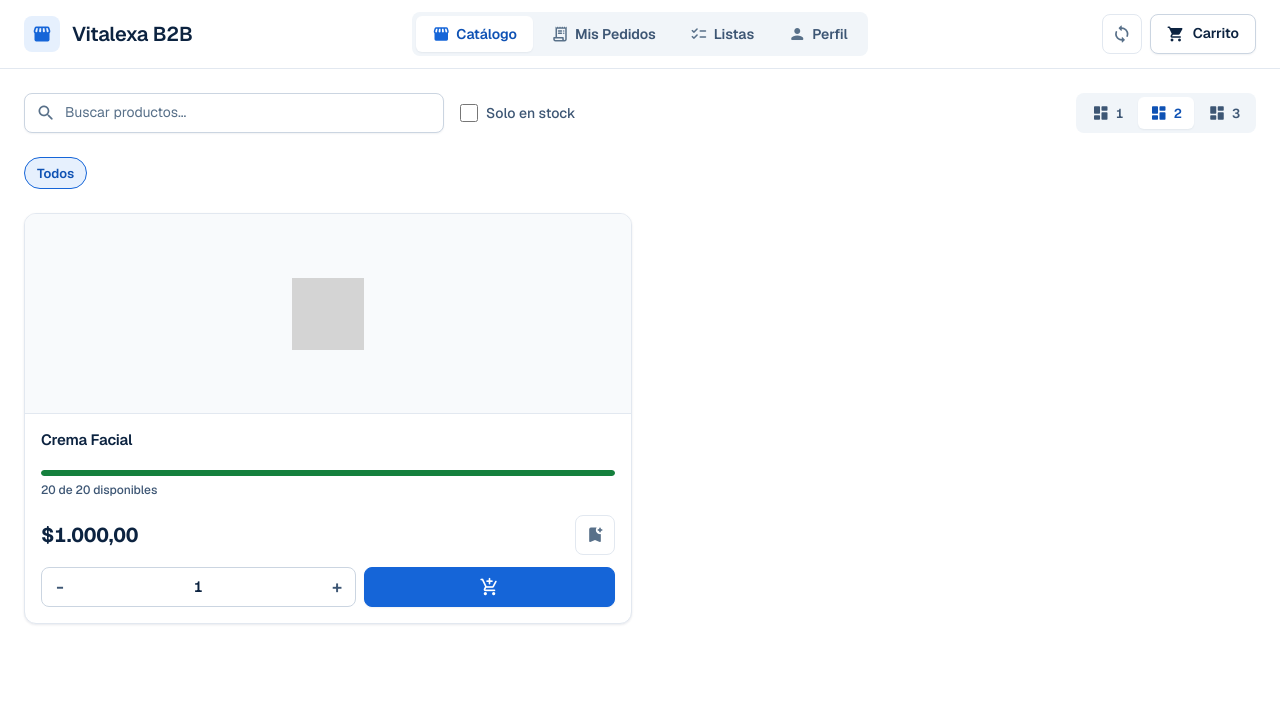
Test: catálogo: "Actualizar" no cambia la grilla por esqueletos y la cantidad elegida se conserva
Expected: the heading "Crema Facial" is shown, [41,430,132,450]
Step 1. Click the button named "Aumentar cantidad" → (337, 587), box [319,568,355,606]
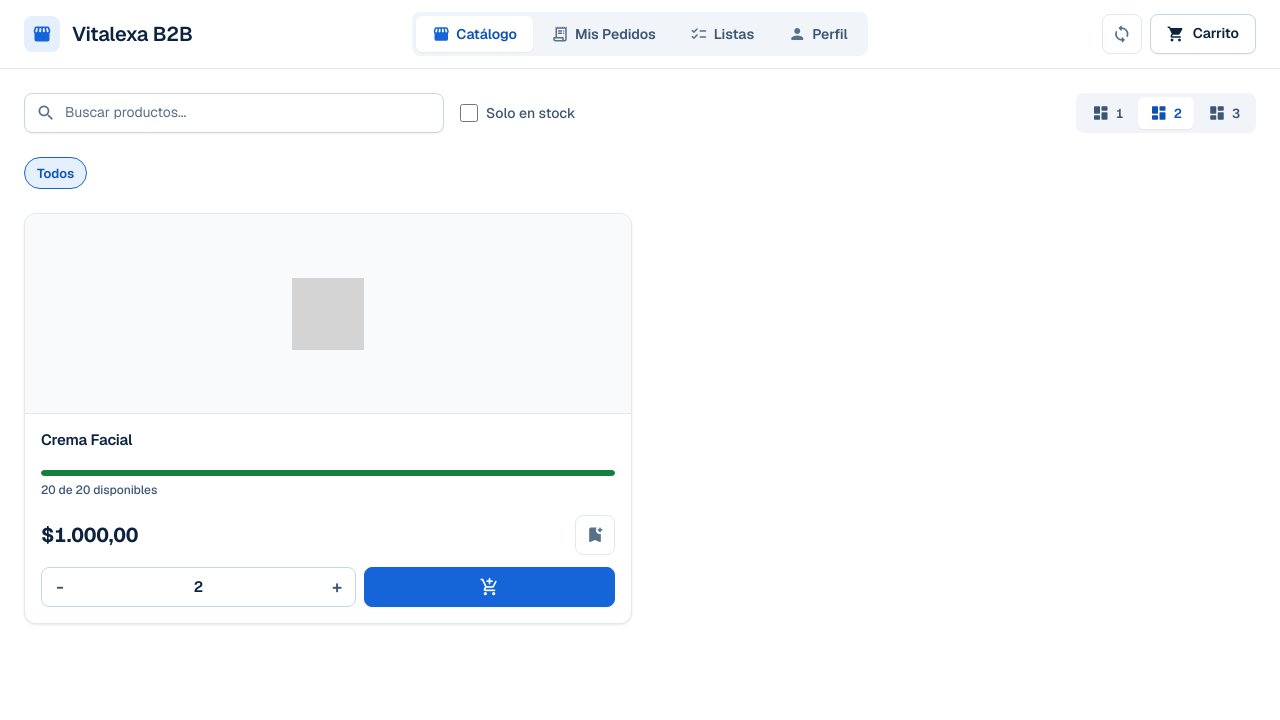
Step 2. Click the button named "Aumentar cantidad" → (337, 587), box [319,568,355,606]
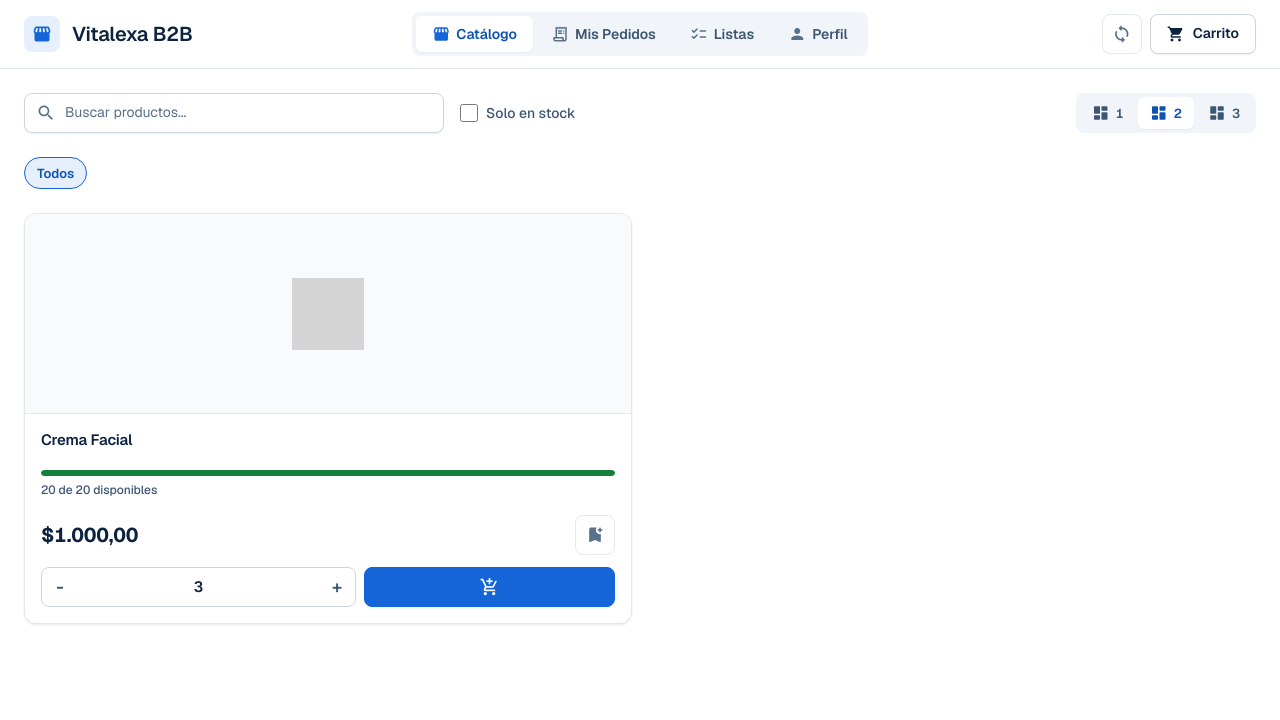
Expected: the text "3" is shown, [194,577,203,596]
Step 3. Click the button named "Actualizar datos" → (1122, 34), box [1102,14,1142,54]
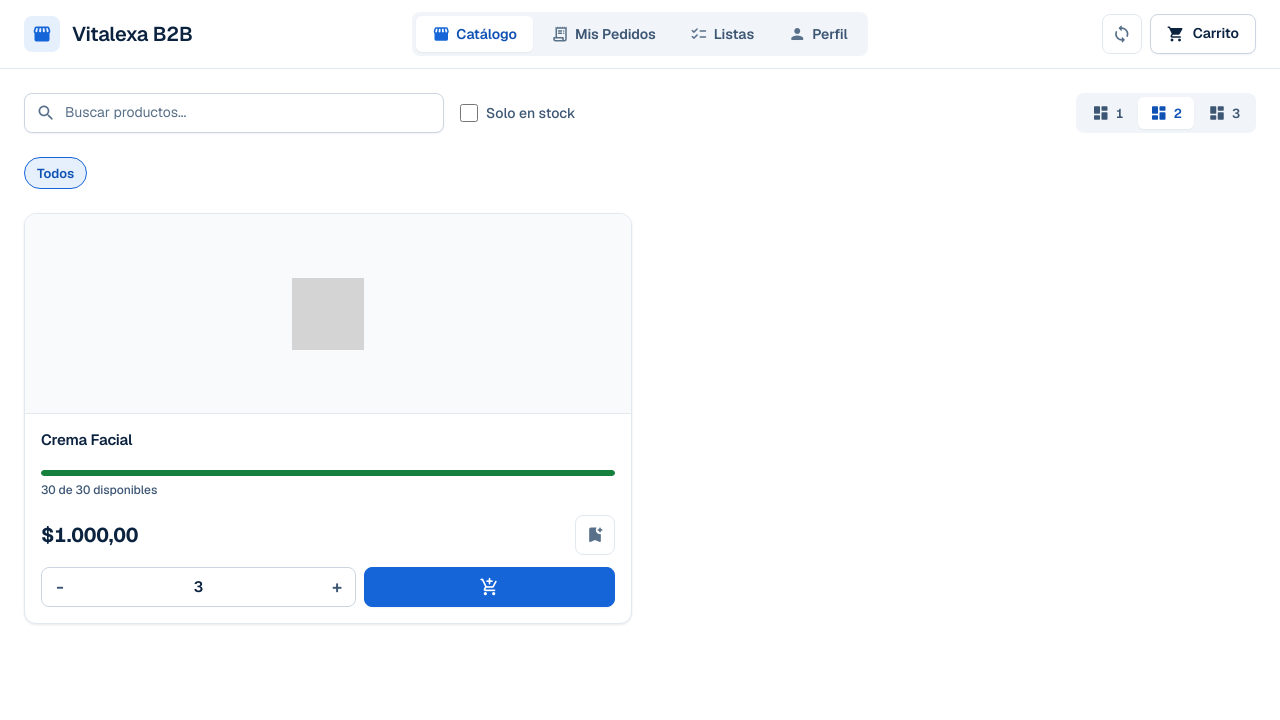
Expected: the heading "Crema Facial" is shown, [41,430,132,450]
Expected: the text "3" is shown, [194,577,203,596]
Expected: the text "30 de 30 disponibles" is shown, [41,482,157,498]
